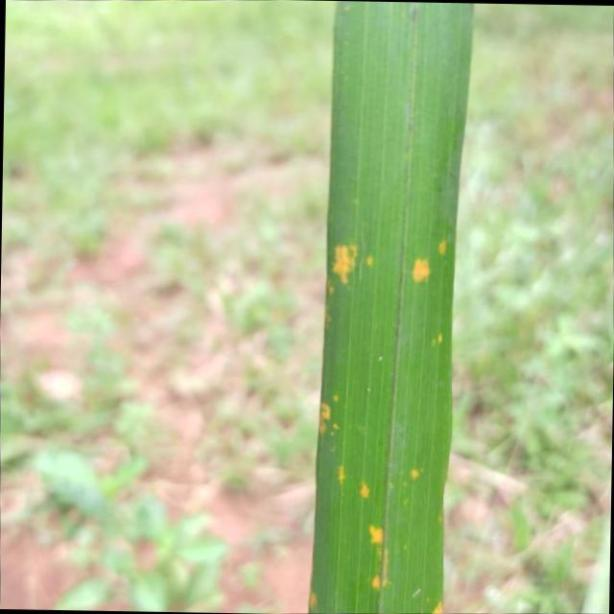Kalium: (313, 0, 474, 614)
